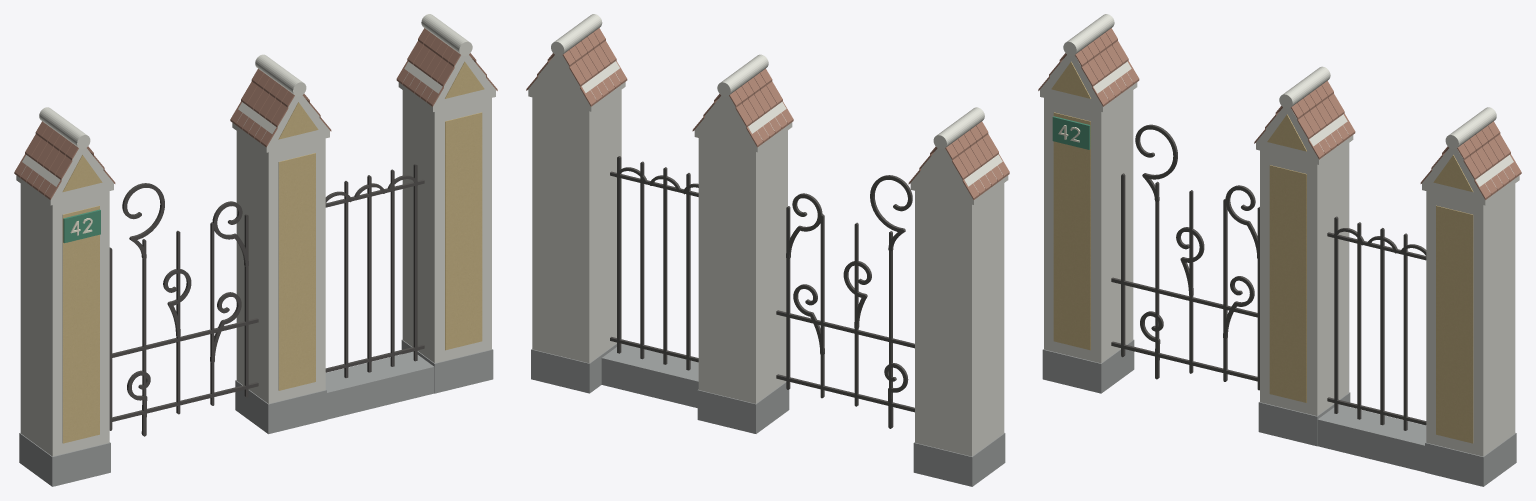
Rendered from huating-42-gabled-gateposts-near.glb.
The picture shows the model from 3 angles, left to right: view 1: azimuth 30°, elevation 25°; view 2: azimuth 150°, elevation 25°; view 3: azimuth 330°, elevation 25°; orthographic projection.
Parts seen in each view (by area): view 1: 华亭路42号三座瓦顶门柱与铁栏; view 2: 华亭路42号三座瓦顶门柱与铁栏; view 3: 华亭路42号三座瓦顶门柱与铁栏.
Boxes of the visible parts, x1,y1,x2,y2 form: 华亭路42号三座瓦顶门柱与铁栏: [14, 14, 497, 486]; 华亭路42号三座瓦顶门柱与铁栏: [526, 14, 1009, 486]; 华亭路42号三座瓦顶门柱与铁栏: [1038, 14, 1521, 486].
Size of the model in its own units: 3.15 by 2.33 by 0.462.
8 materials, 1 textured.
